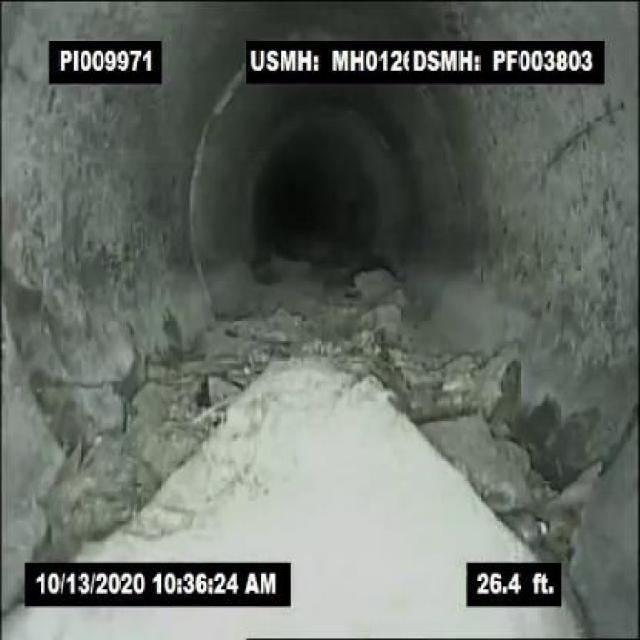Obstacle: (94, 315, 529, 560)
